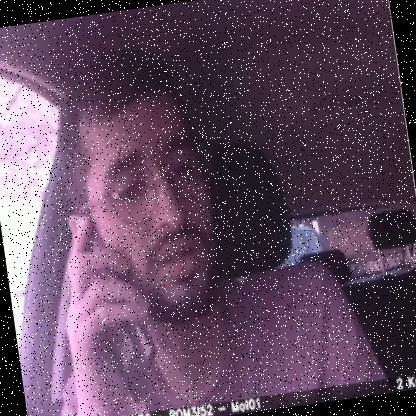phone: (65, 214, 170, 411)
